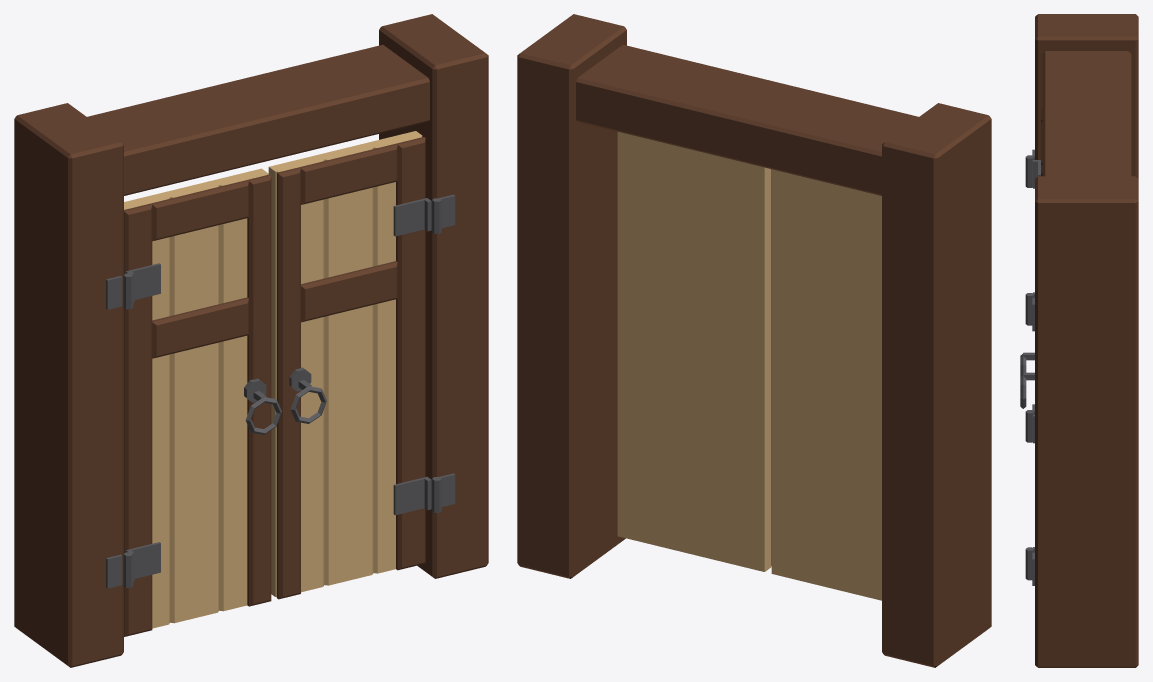
The model's file is KANJI_07_MON.fbx.
3 renders of one model, left to right at view 1: azimuth 30°, elevation 25°; view 2: azimuth 150°, elevation 25°; view 3: azimuth 270°, elevation 25°, orthographic. The views are drawn at different scales.
Parts seen in each view (by area): view 1: SM_KANJI_07_Marco, SM_KANJI_07_Hoja_Der, SM_KANJI_07_Hoja_Izq; view 2: SM_KANJI_07_Marco, SM_KANJI_07_Hoja_Der, SM_KANJI_07_Hoja_Izq; view 3: SM_KANJI_07_Marco, SM_KANJI_07_Hoja_Izq, SM_KANJI_07_Hoja_Der.
Part boxes in pixels (x1,y1,x2,y2): SM_KANJI_07_Marco: (14, 14, 488, 667); SM_KANJI_07_Hoja_Der: (268, 131, 441, 599); SM_KANJI_07_Hoja_Izq: (123, 168, 281, 636); SM_KANJI_07_Marco: (517, 14, 991, 667); SM_KANJI_07_Hoja_Der: (617, 131, 771, 571); SM_KANJI_07_Hoja_Izq: (771, 169, 881, 600); SM_KANJI_07_Marco: (1032, 14, 1138, 667); SM_KANJI_07_Hoja_Izq: (1020, 108, 1042, 443); SM_KANJI_07_Hoja_Der: (1020, 292, 1034, 580).
Size of the model in its own units: 0.3 by 0.35 by 0.08.
